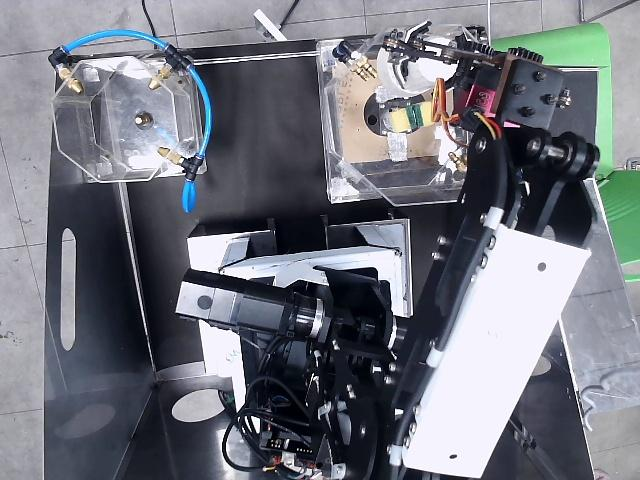cup: (377, 49, 456, 97), (430, 36, 447, 44)
